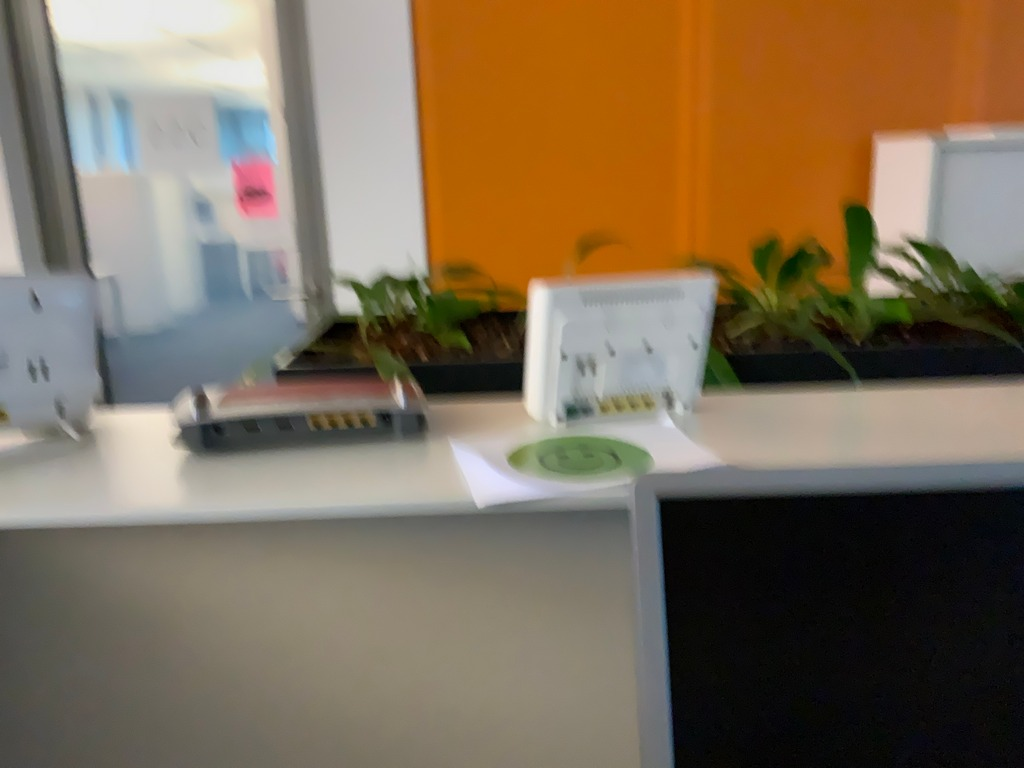Router2: (520, 268, 725, 434)
router: (1, 272, 118, 452)
router3: (176, 373, 438, 455)
